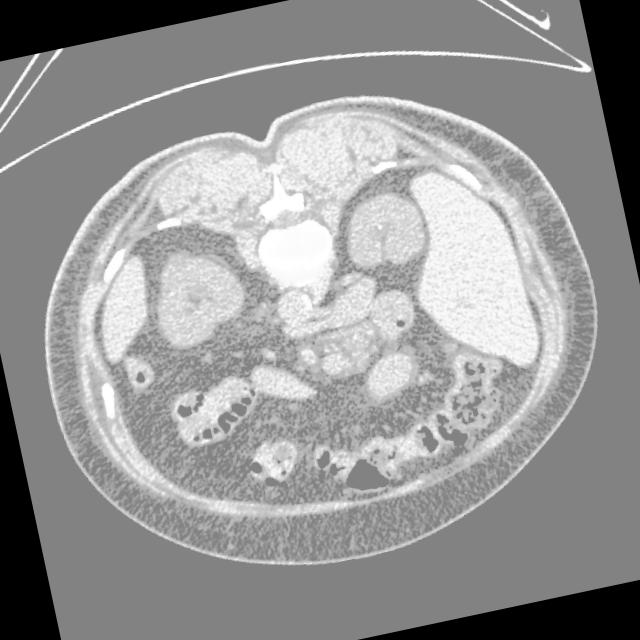STONE: (75, 270, 554, 535)
